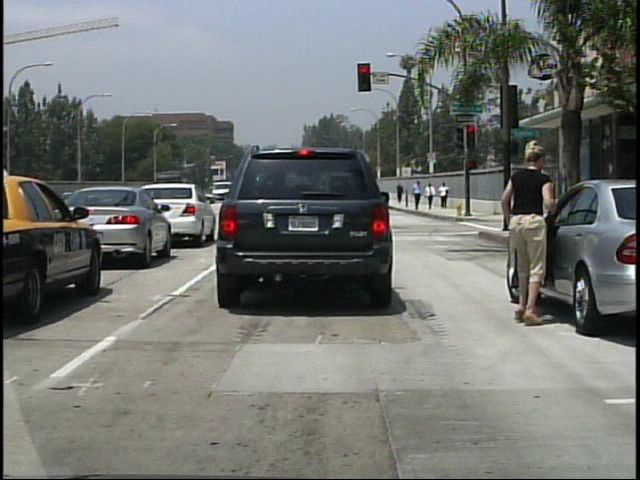person: (500, 140, 565, 325), (439, 181, 451, 210), (414, 178, 425, 209), (426, 182, 437, 210), (396, 184, 405, 205)
